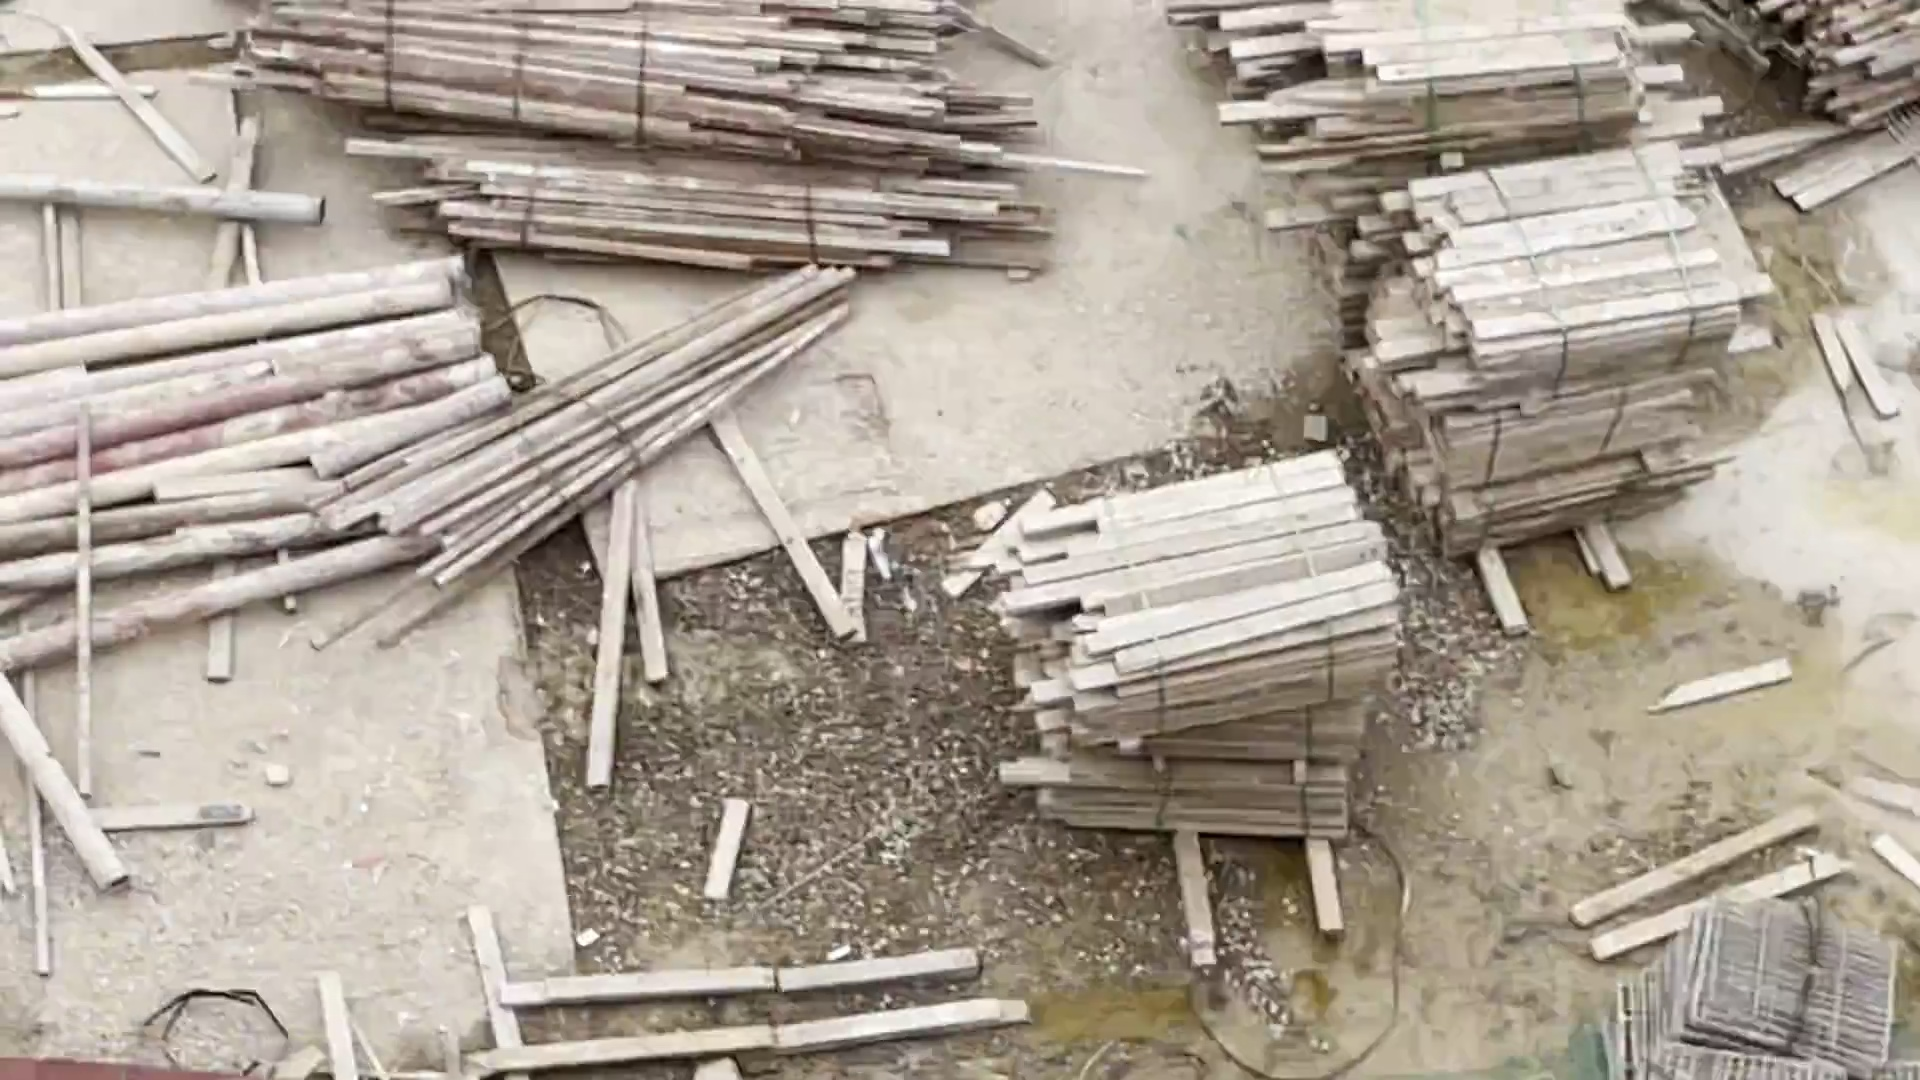wood: (251, 3, 1030, 247), (400, 272, 836, 583), (1377, 146, 1720, 541), (1006, 463, 1369, 819), (1205, 3, 1669, 136)
